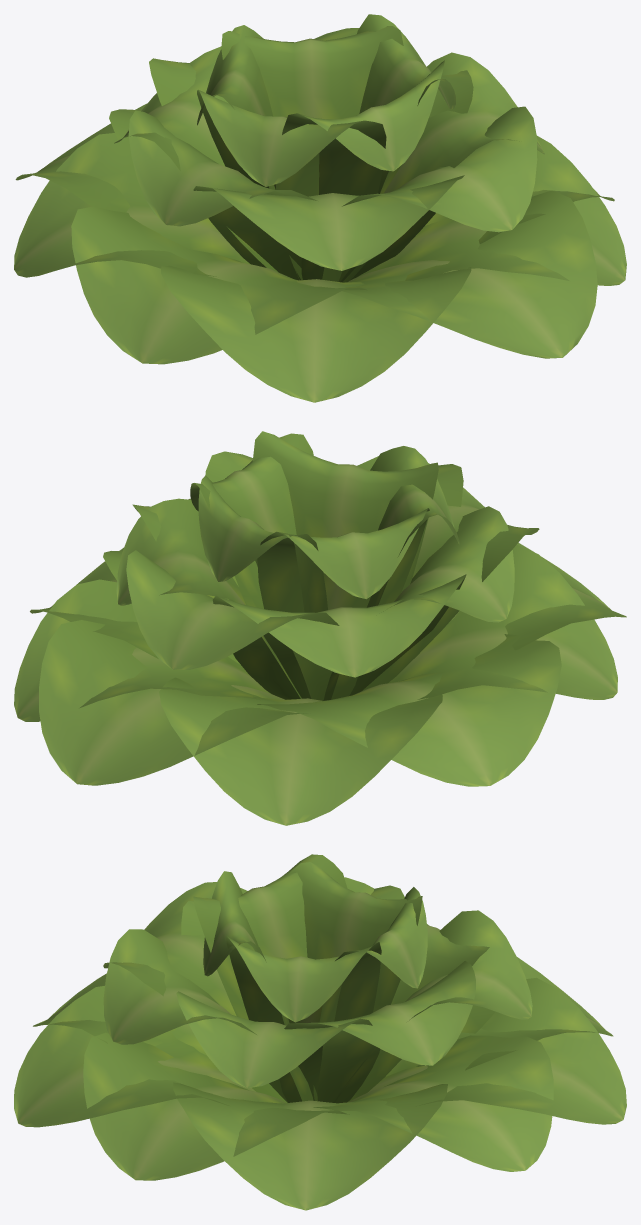
Rendered from lettuce.glb.
3 views of the same model, one above another, from view 1: azimuth 30°, elevation 25°; view 2: azimuth 150°, elevation 25°; view 3: azimuth 270°, elevation 25° (orthographic). The views are drawn at different scales.
Parts seen in each view (by area): view 1: Lettuce; view 2: Lettuce; view 3: Lettuce.
Part boxes in pixels (x1,y1,x2,y2): Lettuce: [14, 14, 626, 402]; Lettuce: [14, 431, 626, 825]; Lettuce: [14, 854, 626, 1210].
Size of the model in its own units: 0.4375 by 0.185 by 0.4797.
